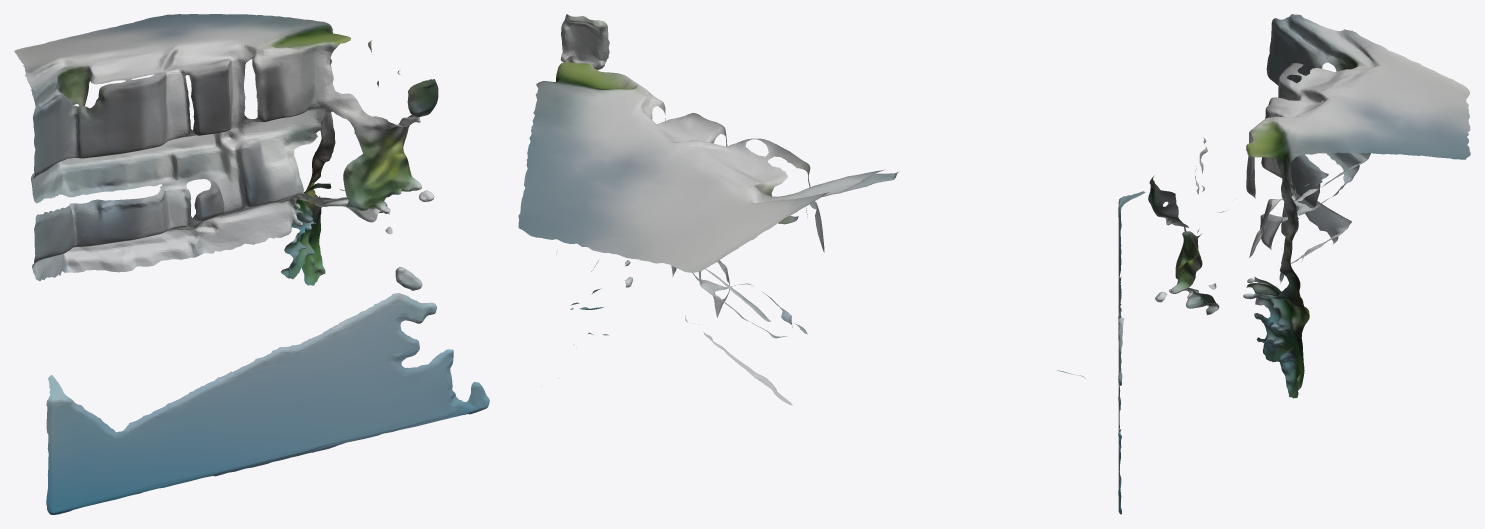
File: villa.glb
3 renders of one model, left to right at view 1: azimuth 30°, elevation 25°; view 2: azimuth 150°, elevation 25°; view 3: azimuth 270°, elevation 25°, orthographic. The views are drawn at different scales.
Parts seen in each view (by area): view 1: villa_depth_25k.ply; view 2: villa_depth_25k.ply; view 3: villa_depth_25k.ply.
Part boxes in pixels (x1,y1,x2,y2): villa_depth_25k.ply: (14,14,489,514); villa_depth_25k.ply: (518,14,1085,405); villa_depth_25k.ply: (1118,14,1470,514).
Size of the model in its own units: 7.07 by 5.45 by 5.02.
